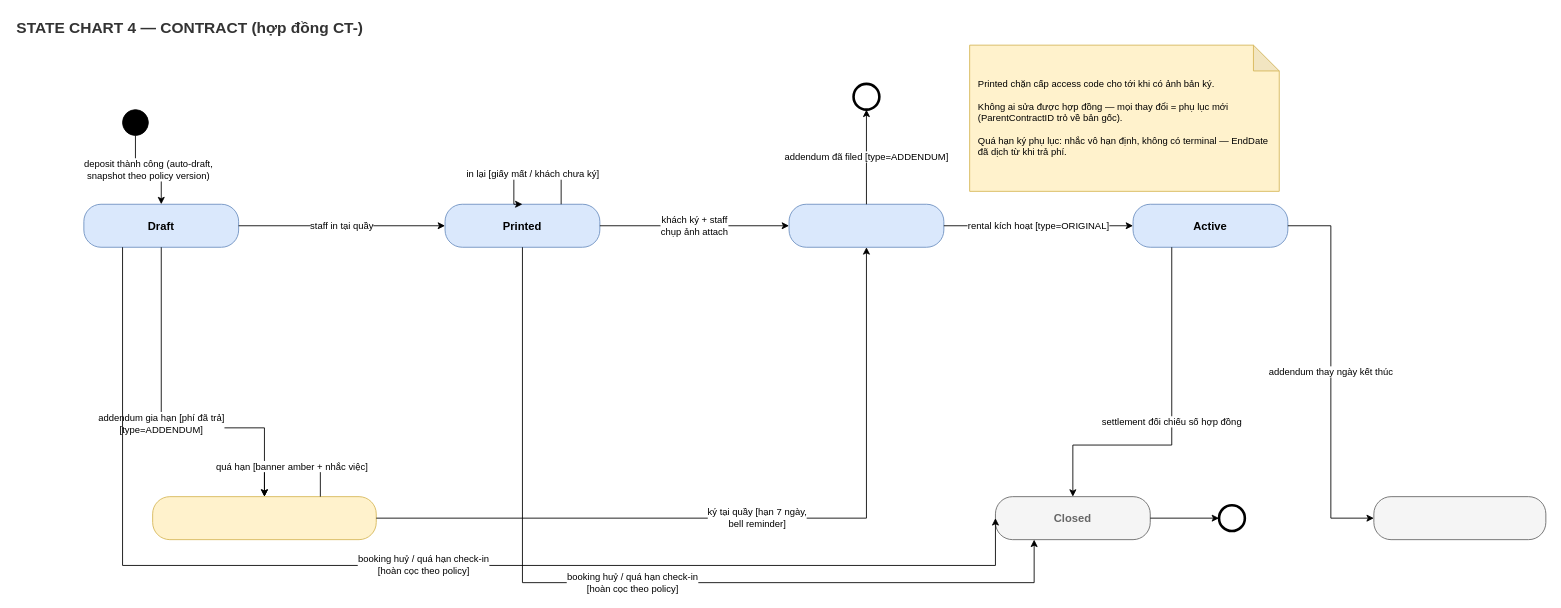
This 1561x608 diagram has some shape labels left out. Here are the shapes that lost their labels. From the top down, the centre of each, then its label:
point (866, 225): Signed
point (264, 518): AwaitingSignature
point (1459, 518): Superseded
